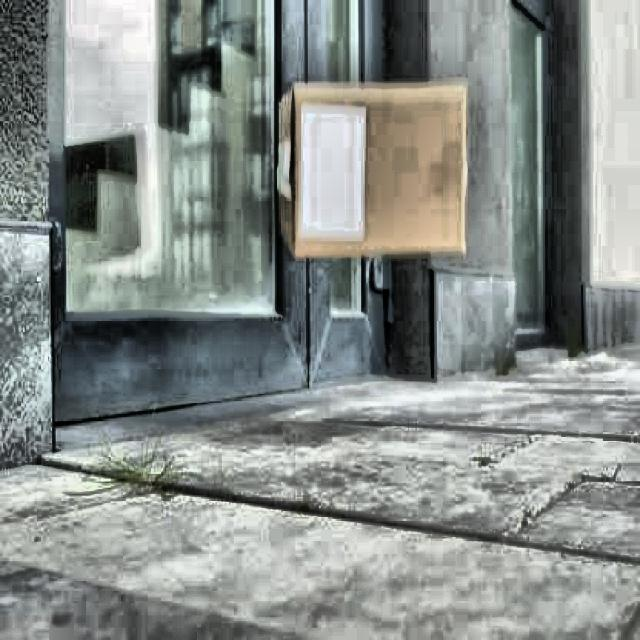Cardbox: (242, 56, 485, 274)
